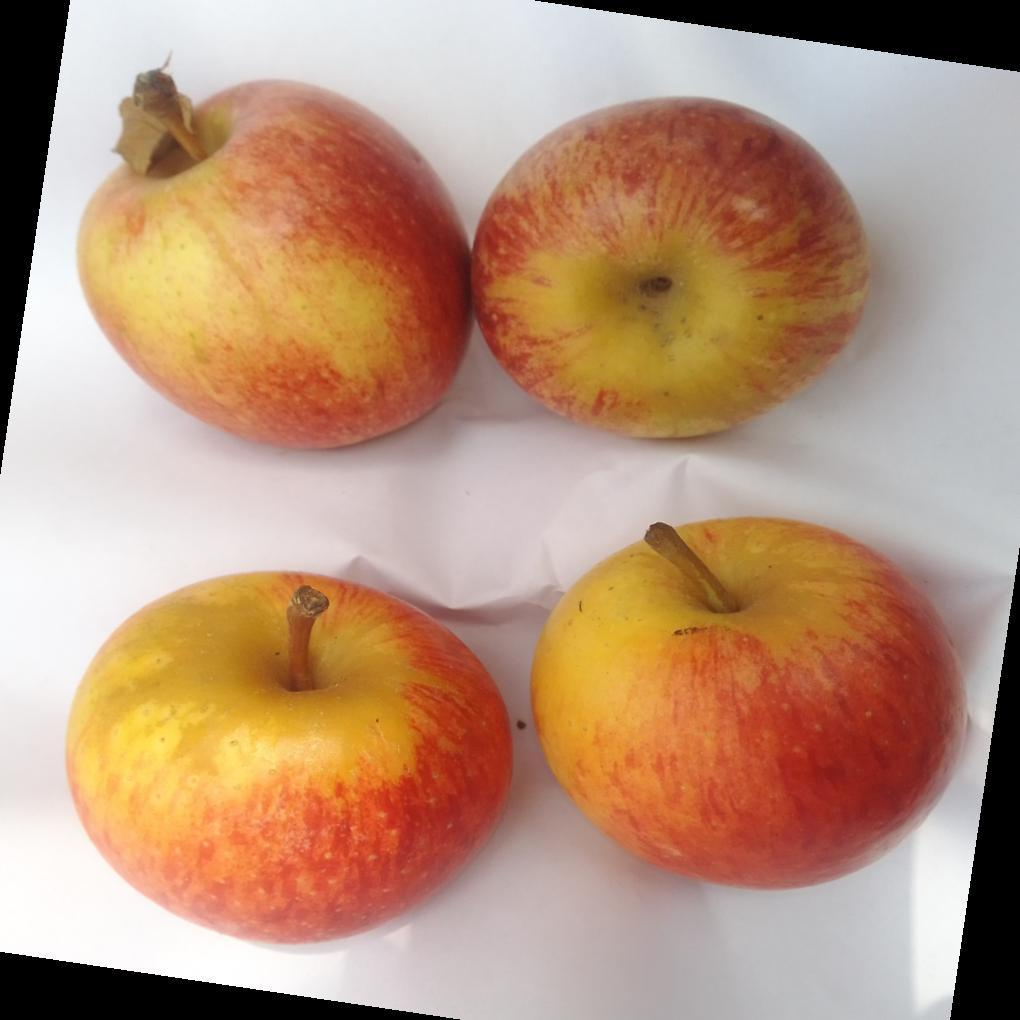FreshGuava: (74, 65, 871, 456), (65, 573, 515, 950), (527, 518, 961, 894)
